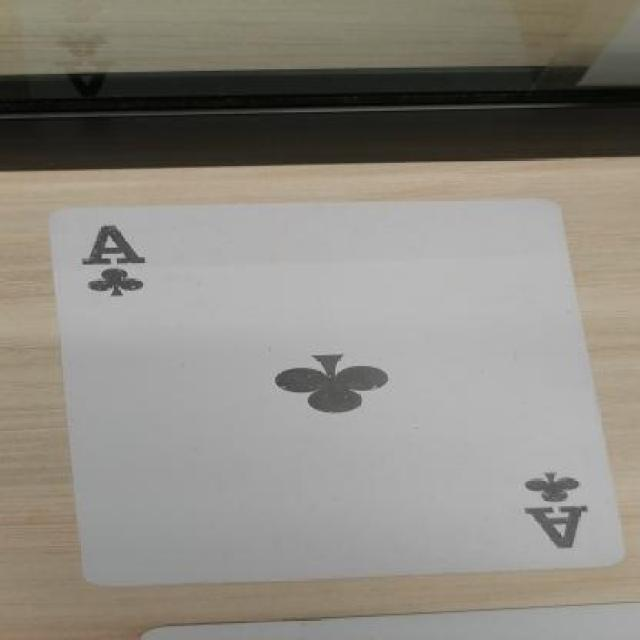AC: (450, 443, 613, 562), (63, 216, 179, 304)
